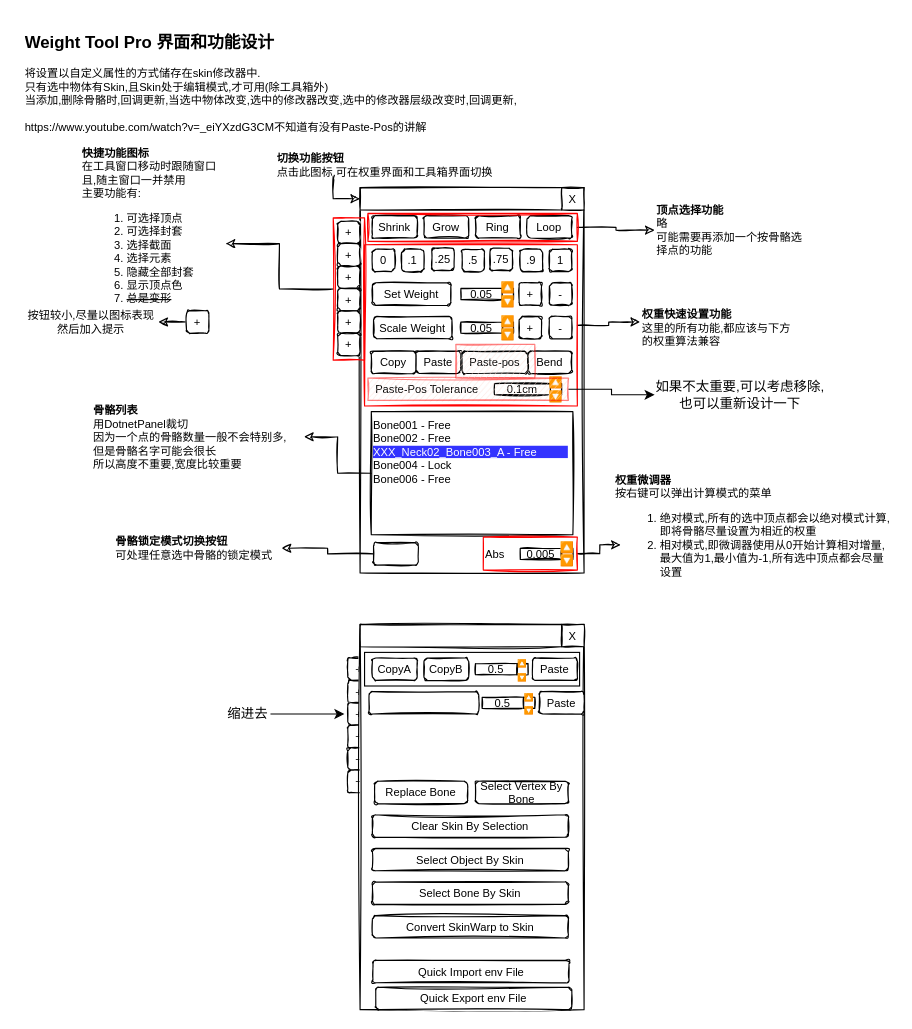
Image size: 912x1029. Some labels were removed from this diagram. The shapes that lost their labels are listed below. From the top down, each one's centre as x and y in pixels, then its label:
the point at 460,198: 🔧Weight Tool Pro
the point at 395,553: Free
the point at 460,635: 🔧Weight Tool Bag
the point at 423,702: Copy Soft Selection
